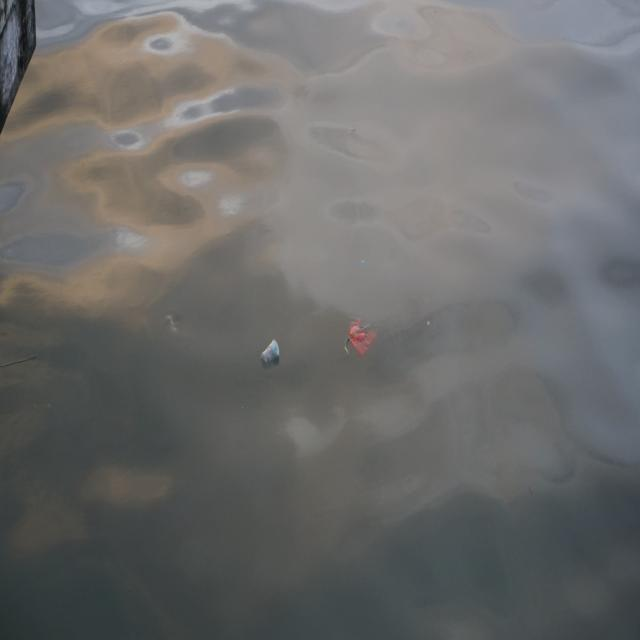Bungkus Minuman: (260, 338, 284, 370)
Kantong Plastik: (346, 315, 379, 362)
